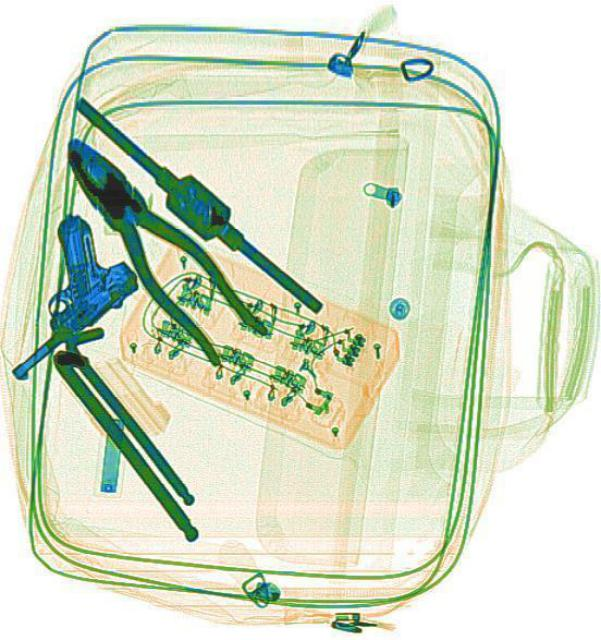Gun: (9, 210, 146, 392)
Pliers: (36, 117, 269, 375)
